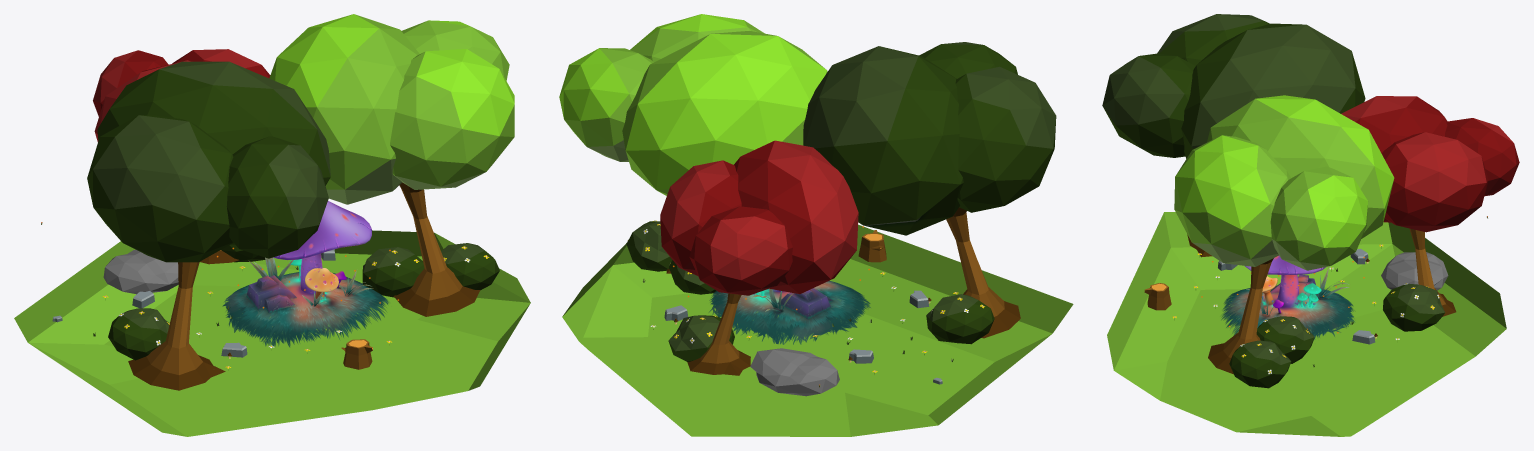
Rendered from ilo.glb.
The picture shows the model from 3 angles, left to right: view 1: azimuth 30°, elevation 25°; view 2: azimuth 150°, elevation 25°; view 3: azimuth 270°, elevation 25°; orthographic projection. The views are drawn at different scales.
Parts seen in each view (by area): view 1: Land, Tree01.003, Tree02.004, Plane, Tree03.001, Circle_mushroms_0, Rock3.001, Bush.009, Bush.012, Bush.013, Cube.001, TreeTrunk.003 (+1 smaller); view 2: Land, Tree01.003, Tree02.004, Tree03.001, Plane, Rock3.001, Bush.009, Bush.010, Bush.013, Cube.001, Bush.012, TreeTrunk.003; view 3: Land, Tree02.004, Tree01.003, Tree03.001, Plane, Bush.010, Bush.013, Bush.012, Rock3.001, Circle_mushroms_0, TreeTrunk.003.
Boxes of the visible parts, x1,y1,x2,y2 form: Land: [14, 230, 530, 436]; Tree01.003: [87, 61, 330, 390]; Tree02.004: [269, 14, 514, 316]; Plane: [222, 272, 388, 347]; Tree03.001: [93, 49, 270, 264]; Circle_mushroms_0: [273, 201, 371, 293]; Rock3.001: [103, 249, 178, 294]; Bush.009: [108, 308, 169, 360]; Bush.012: [362, 247, 424, 297]; Bush.013: [441, 243, 499, 290]; Cube.001: [246, 275, 297, 313]; TreeTrunk.003: [341, 339, 372, 369]; Land: [562, 224, 1073, 436]; Tree01.003: [803, 42, 1056, 338]; Tree02.004: [559, 14, 827, 273]; Tree03.001: [660, 140, 858, 375]; Plane: [709, 280, 870, 344]; Rock3.001: [750, 348, 839, 396]; Bush.009: [926, 294, 994, 344]; Bush.010: [668, 315, 734, 361]; Bush.013: [626, 220, 672, 271]; Cube.001: [777, 288, 832, 319]; Bush.012: [669, 260, 716, 294]; TreeTrunk.003: [858, 230, 886, 262]; Land: [1107, 212, 1506, 436]; Tree02.004: [1174, 95, 1394, 374]; Tree01.003: [1102, 14, 1365, 257]; Tree03.001: [1341, 96, 1519, 316]; Plane: [1221, 285, 1354, 339]; Bush.010: [1383, 283, 1444, 331]; Bush.013: [1229, 340, 1291, 388]; Bush.012: [1256, 316, 1314, 363]; Rock3.001: [1381, 252, 1448, 290]; Circle_mushroms_0: [1244, 255, 1325, 307]; TreeTrunk.003: [1144, 283, 1171, 310].
Bounding box in the file's own units: 12.68 × 8.7 × 11.66.
3 materials, 3 textured.
